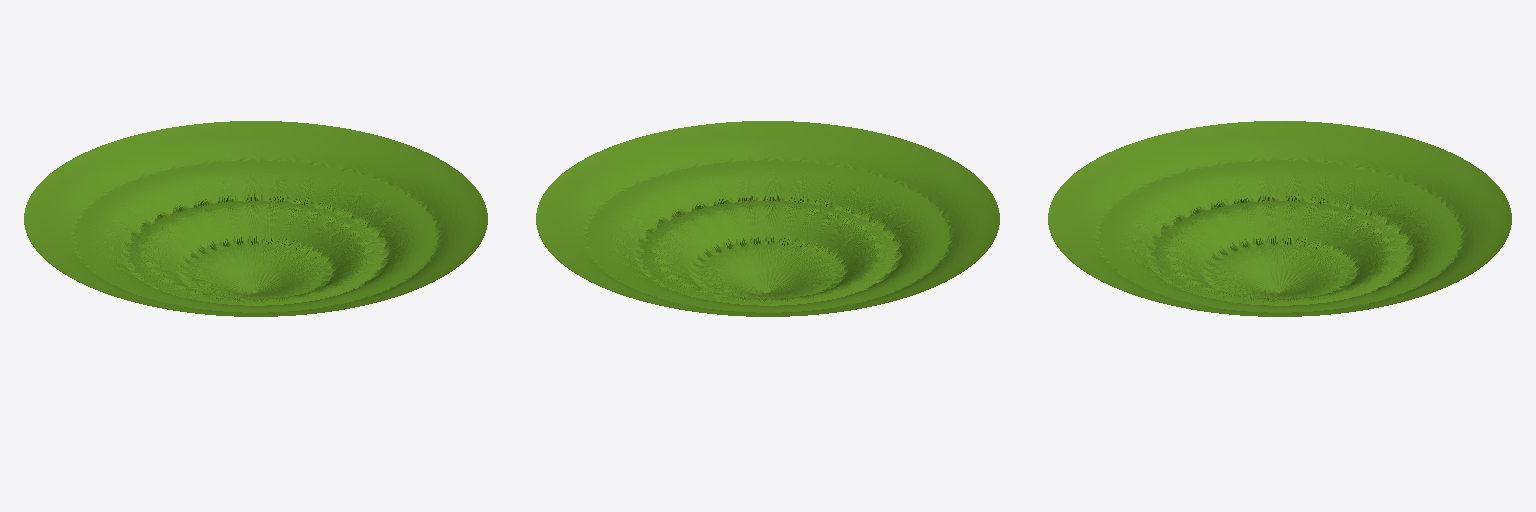
The model's file is cone-track-wave.obj.
3 renders of one model, left to right at view 1: azimuth 30°, elevation 25°; view 2: azimuth 150°, elevation 25°; view 3: azimuth 270°, elevation 25°, orthographic.
Visible parts, largest first — view 1: Mesh_Cone; view 2: Mesh_Cone; view 3: Mesh_Cone.
Boxes of the visible parts, box(x1,y1,x2,y2) form: Mesh_Cone: box(24, 121, 487, 316); Mesh_Cone: box(536, 121, 999, 316); Mesh_Cone: box(1048, 121, 1511, 316).
Size of the model in its own units: 9.94 by 1.75 by 9.94.